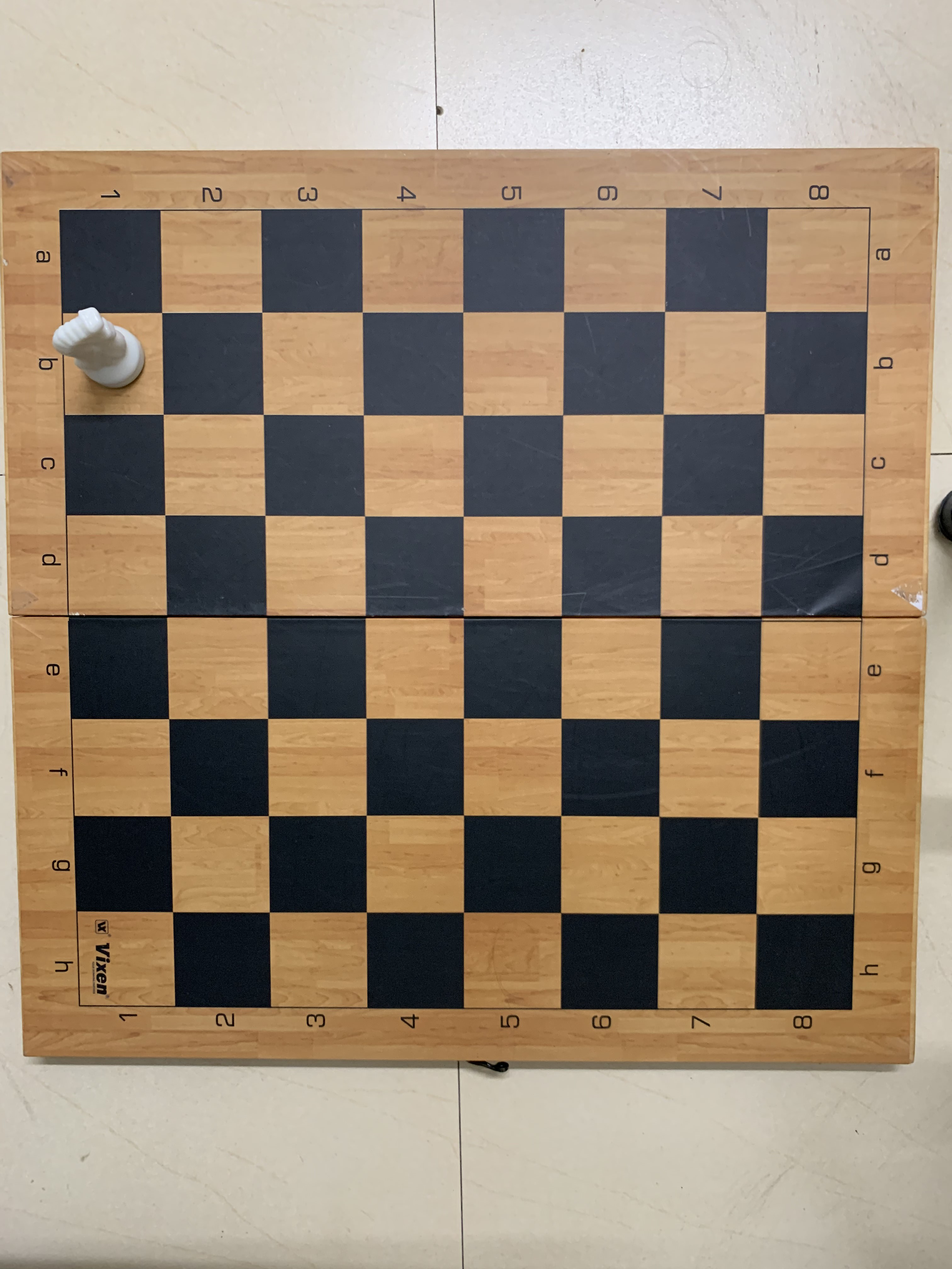white_knight: (54, 309, 162, 415)
